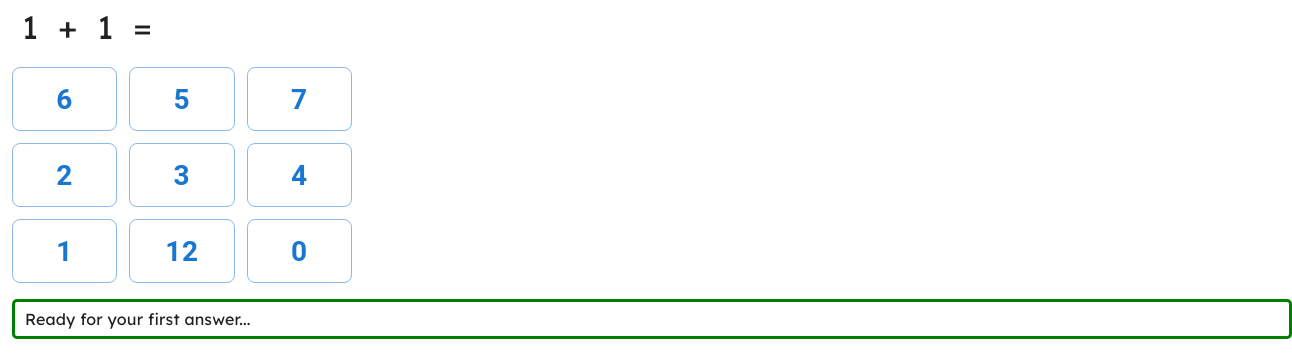
QuizLine › should allow multiple wrong taps on different cells
The image size is (1292, 356).
Click the button "6" at (65, 99), box x1=12 y1=67 x2=117 y2=131
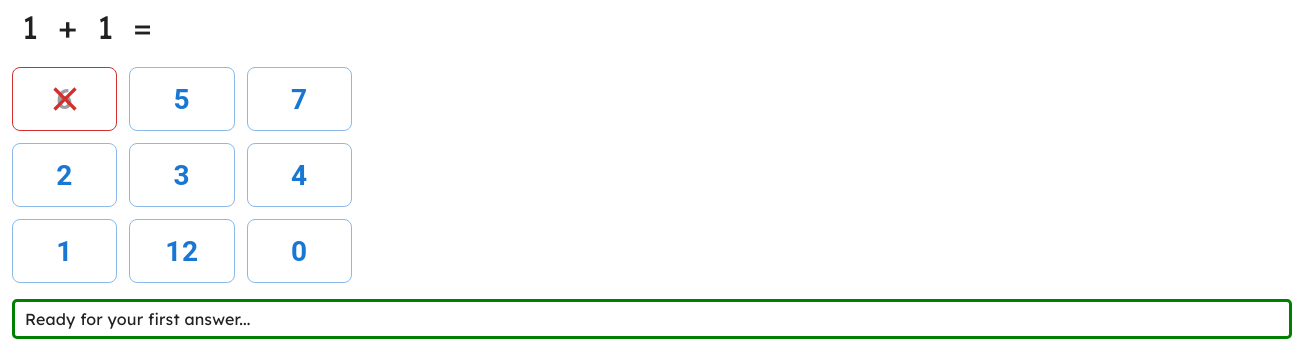
Check: the button "6" is disabled, box x1=12 y1=67 x2=117 y2=131
Click the button "5" at (182, 99), box x1=129 y1=67 x2=235 y2=131
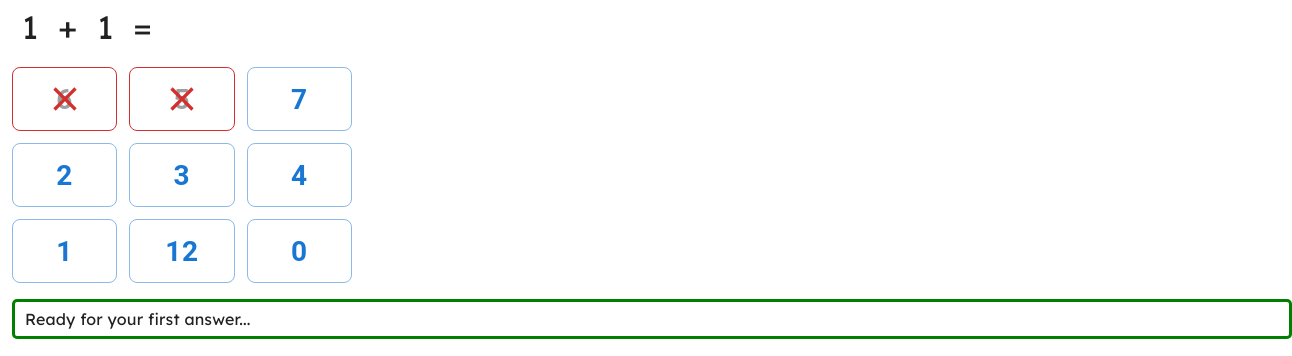
Check: the button "5" is disabled, box x1=129 y1=67 x2=235 y2=131
Check: the number of icons named "incorrect" is 2, box x1=45 y1=79 x2=85 y2=119; x1=162 y1=79 x2=202 y2=119
